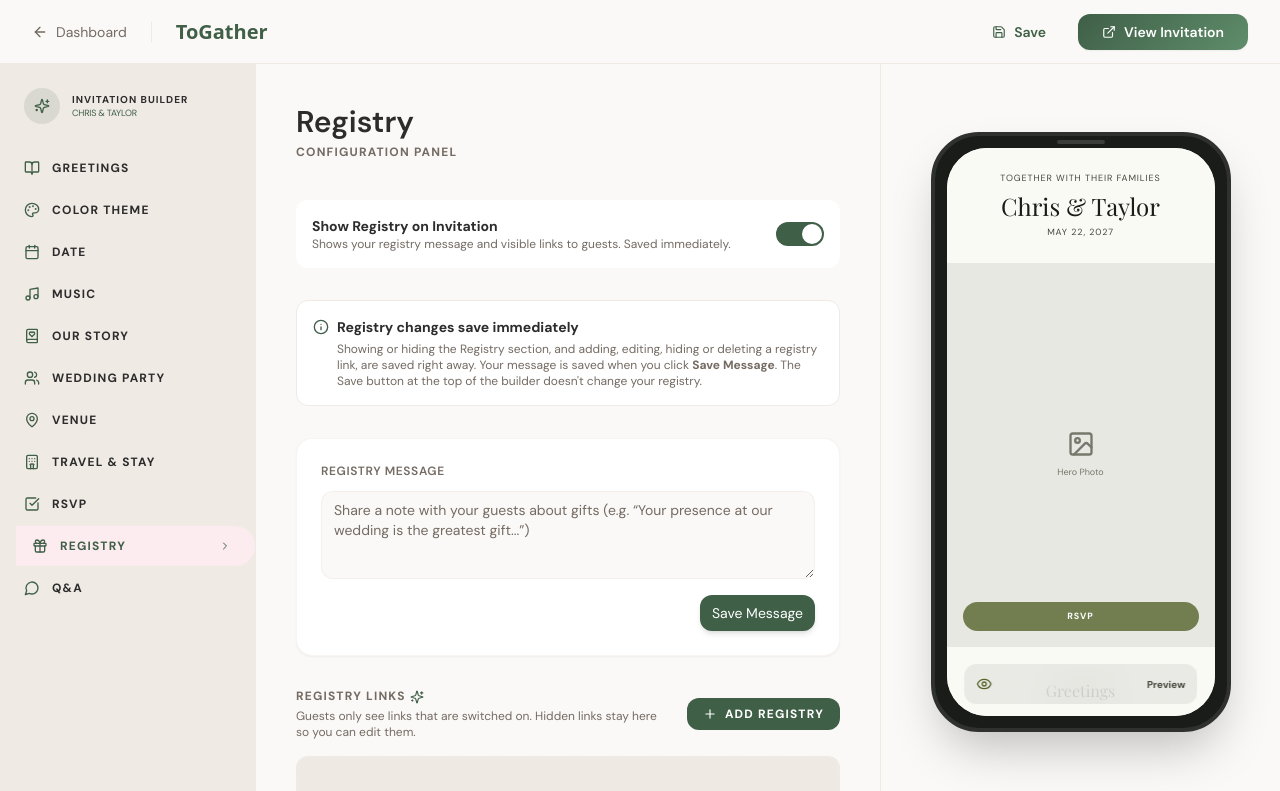
Test case: unsaved-change detection › an unsaved Registry message counts, and the dialog says Save and View saves it
This screenshot has width=1280, height=791.
Replace the text in the text box named "Registry message" with "Thank you!": (568, 535) [321, 491, 815, 579]
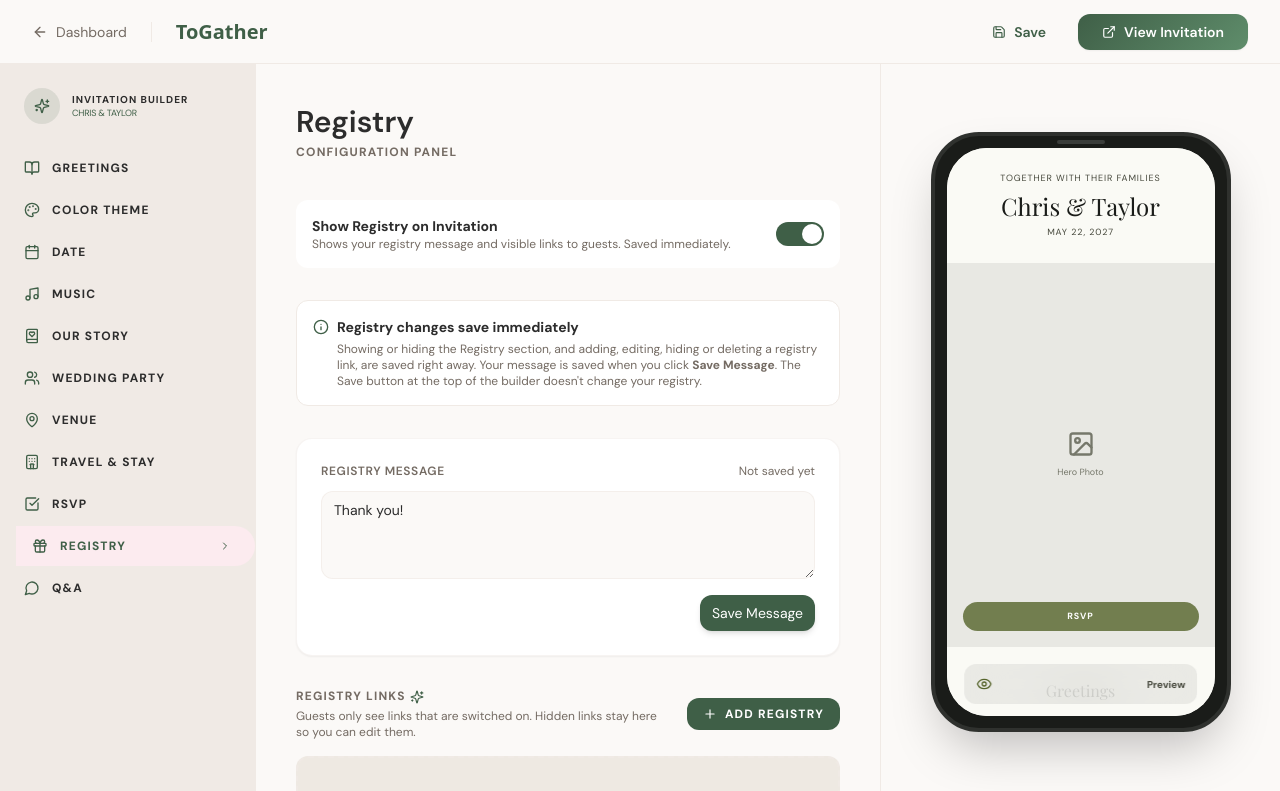
Click the button "View Invitation": (1163, 32) [1078, 14, 1248, 50]
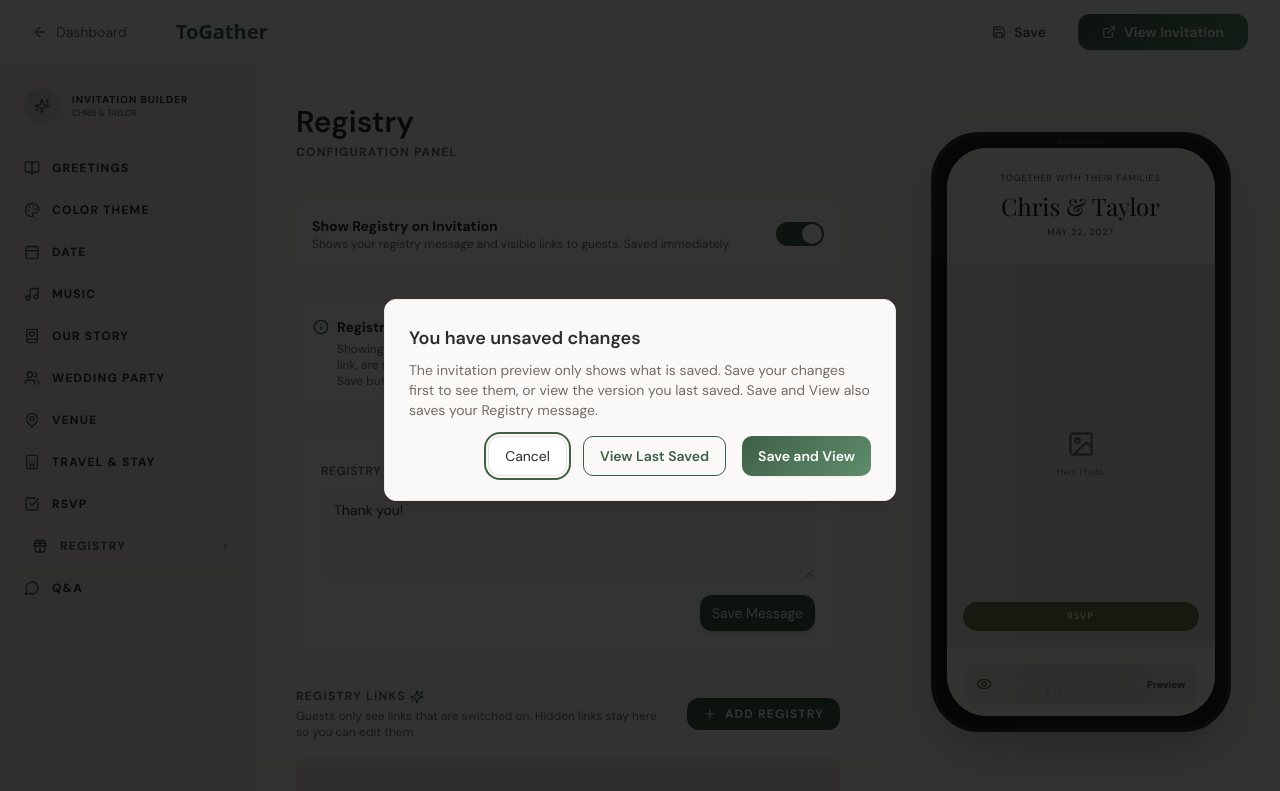
Expected: the dialog shows "Save and View also saves your Registry message", [409, 381, 870, 419]
